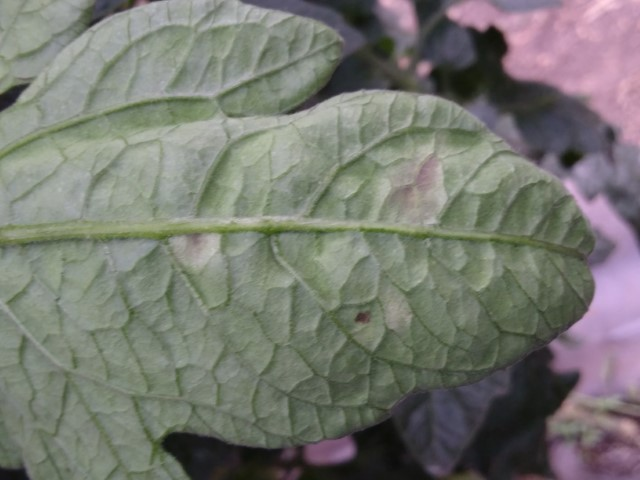cladosporium: (384, 159, 452, 223), (185, 230, 207, 254)
